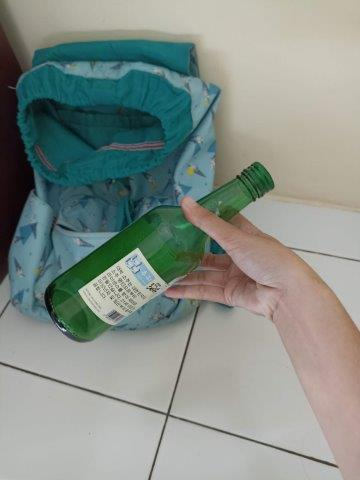botolkaca: (43, 161, 276, 343)
